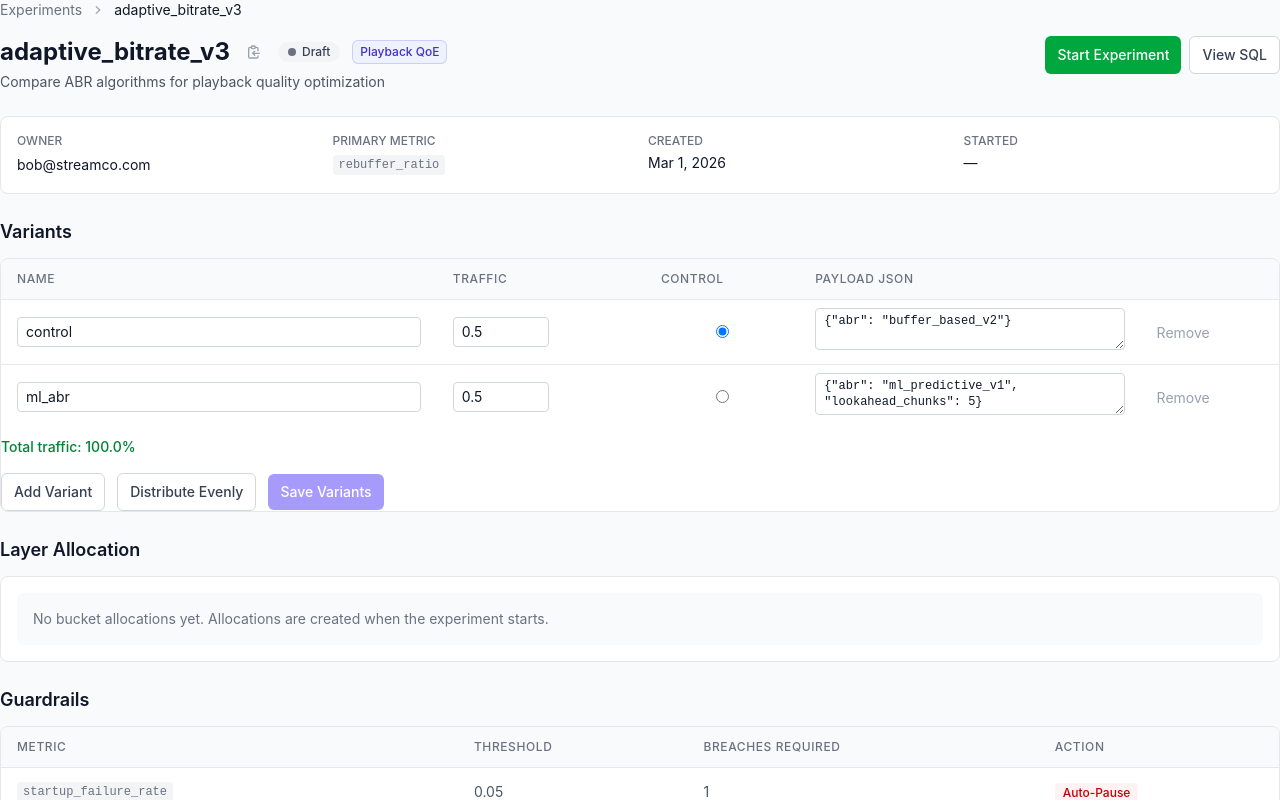
it: Experiment Detail Page - DRAFT experiment › transitions DRAFT to RUNNING on start
The width and height of the screenshot is (1280, 800).
Click the button "Start Experiment".
click(1114, 55)  # box [1046, 36, 1182, 74]
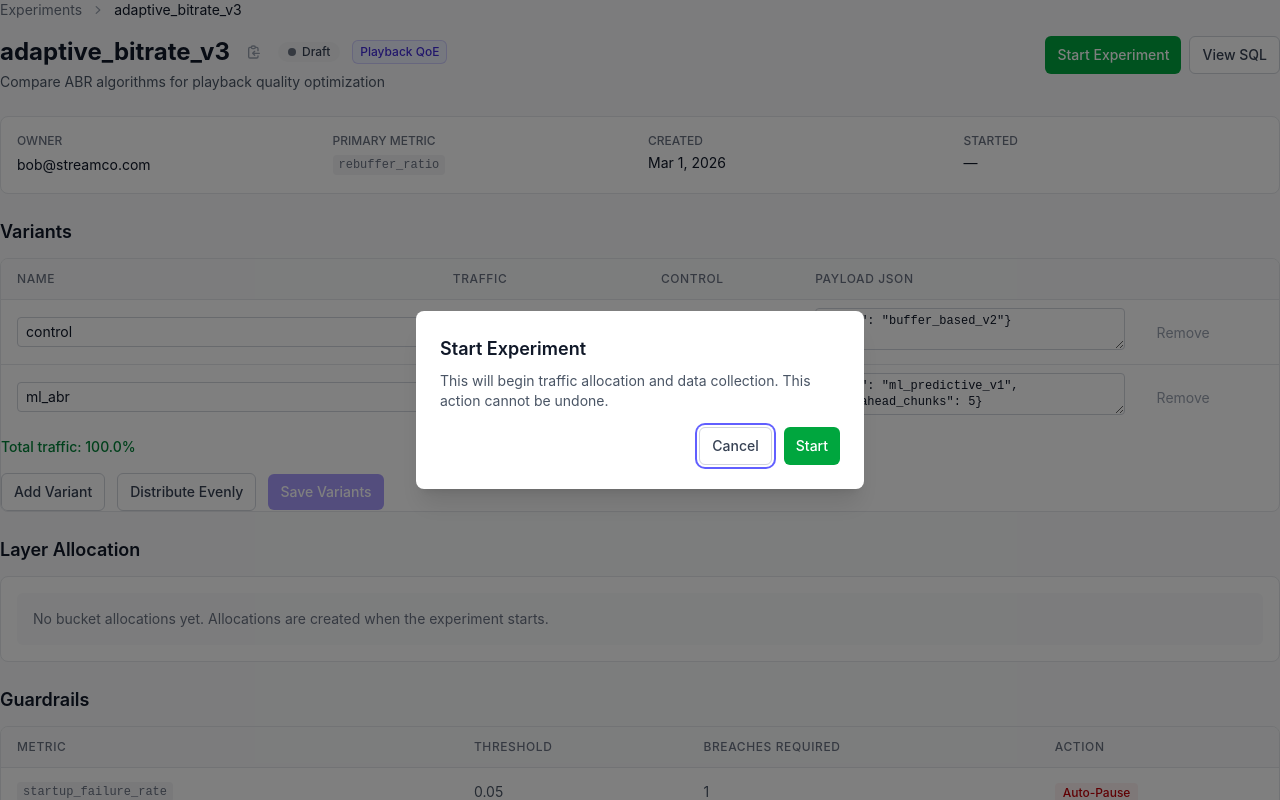
Click the button "Start".
click(812, 446)  # box [784, 427, 840, 465]
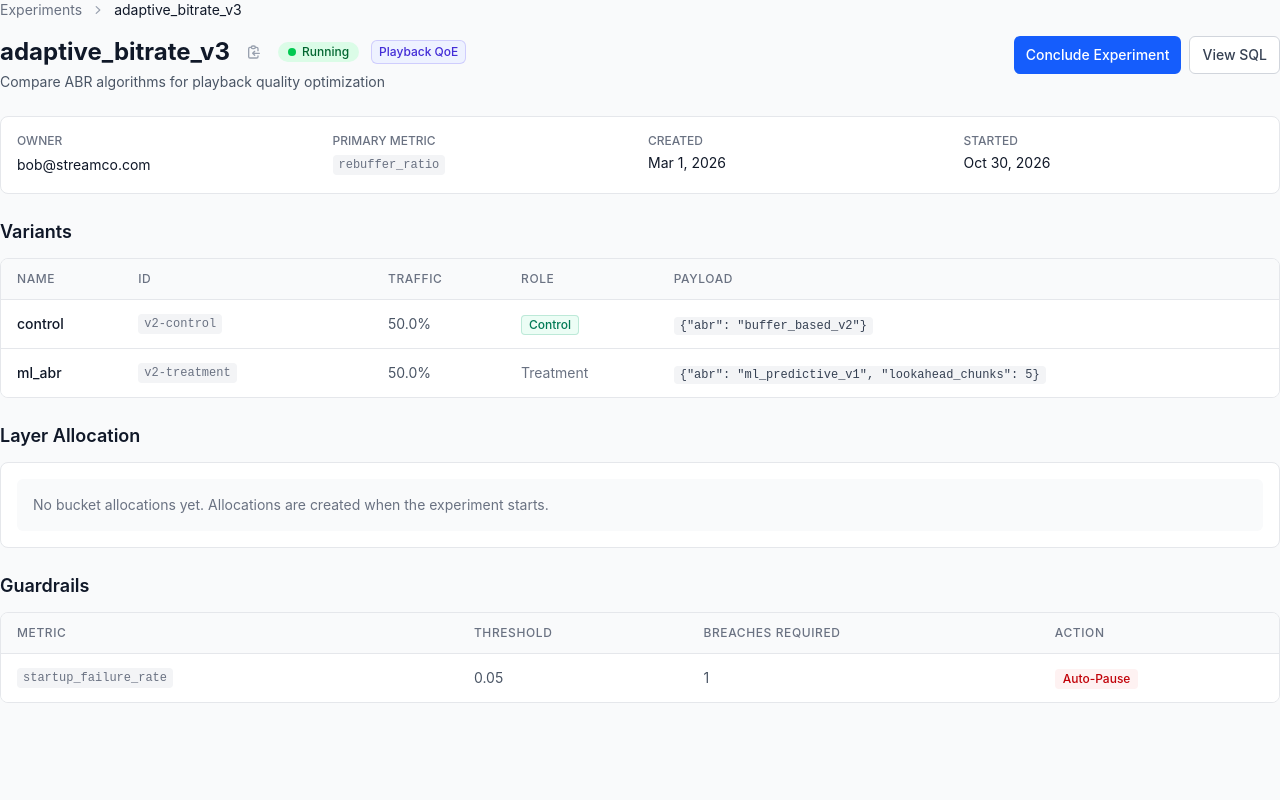
Check: the text "Running" is shown, box [278, 42, 359, 62]
